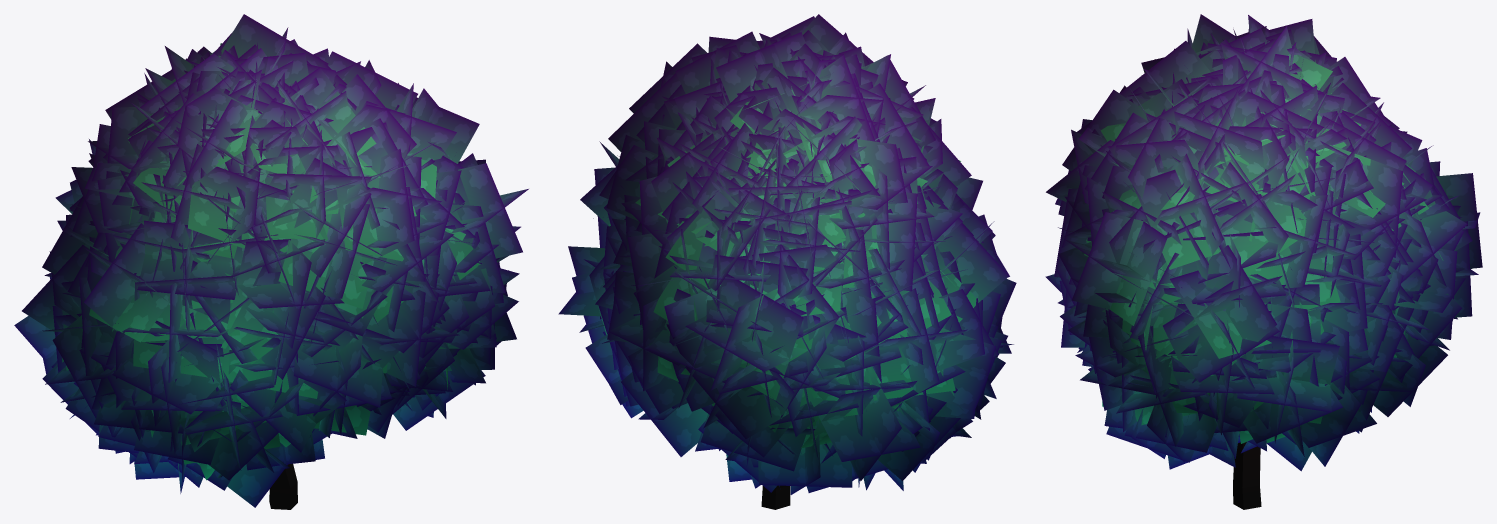
Rendered from SM_Env_Bush_01.gltf.
The picture shows the model from 3 angles, left to right: view 1: azimuth 30°, elevation 25°; view 2: azimuth 150°, elevation 25°; view 3: azimuth 270°, elevation 25°; orthographic projection. The views are drawn at different scales.
Parts seen in each view (by area): view 1: SM_Env_Bush_01_LOD0; view 2: SM_Env_Bush_01_LOD0; view 3: SM_Env_Bush_01_LOD0.
Boxes of the visible parts, left/top/right/bottom form: SM_Env_Bush_01_LOD0: left=14, top=14, right=528, bottom=509; SM_Env_Bush_01_LOD0: left=558, top=14, right=1016, bottom=509; SM_Env_Bush_01_LOD0: left=1045, top=14, right=1482, bottom=509.
Size of what is drawn, in the model's own units: 2.68 by 2.88 by 2.44.
Materials: 1 (1 with a texture image).
